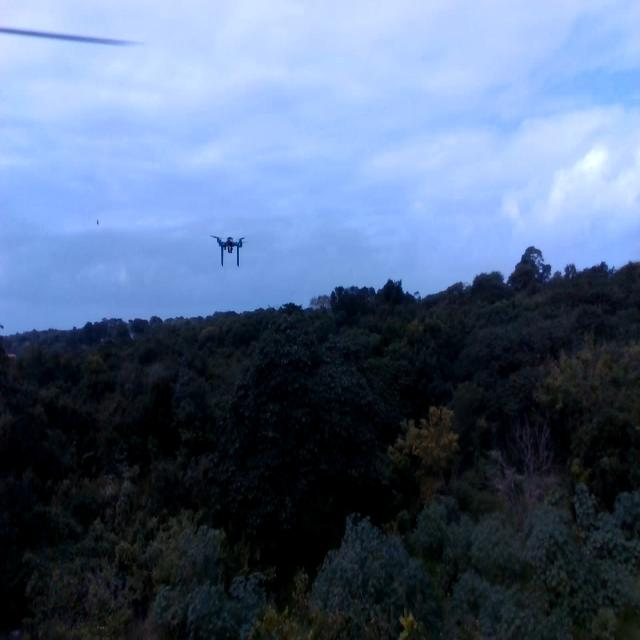-uav-: (202, 203, 260, 287)
